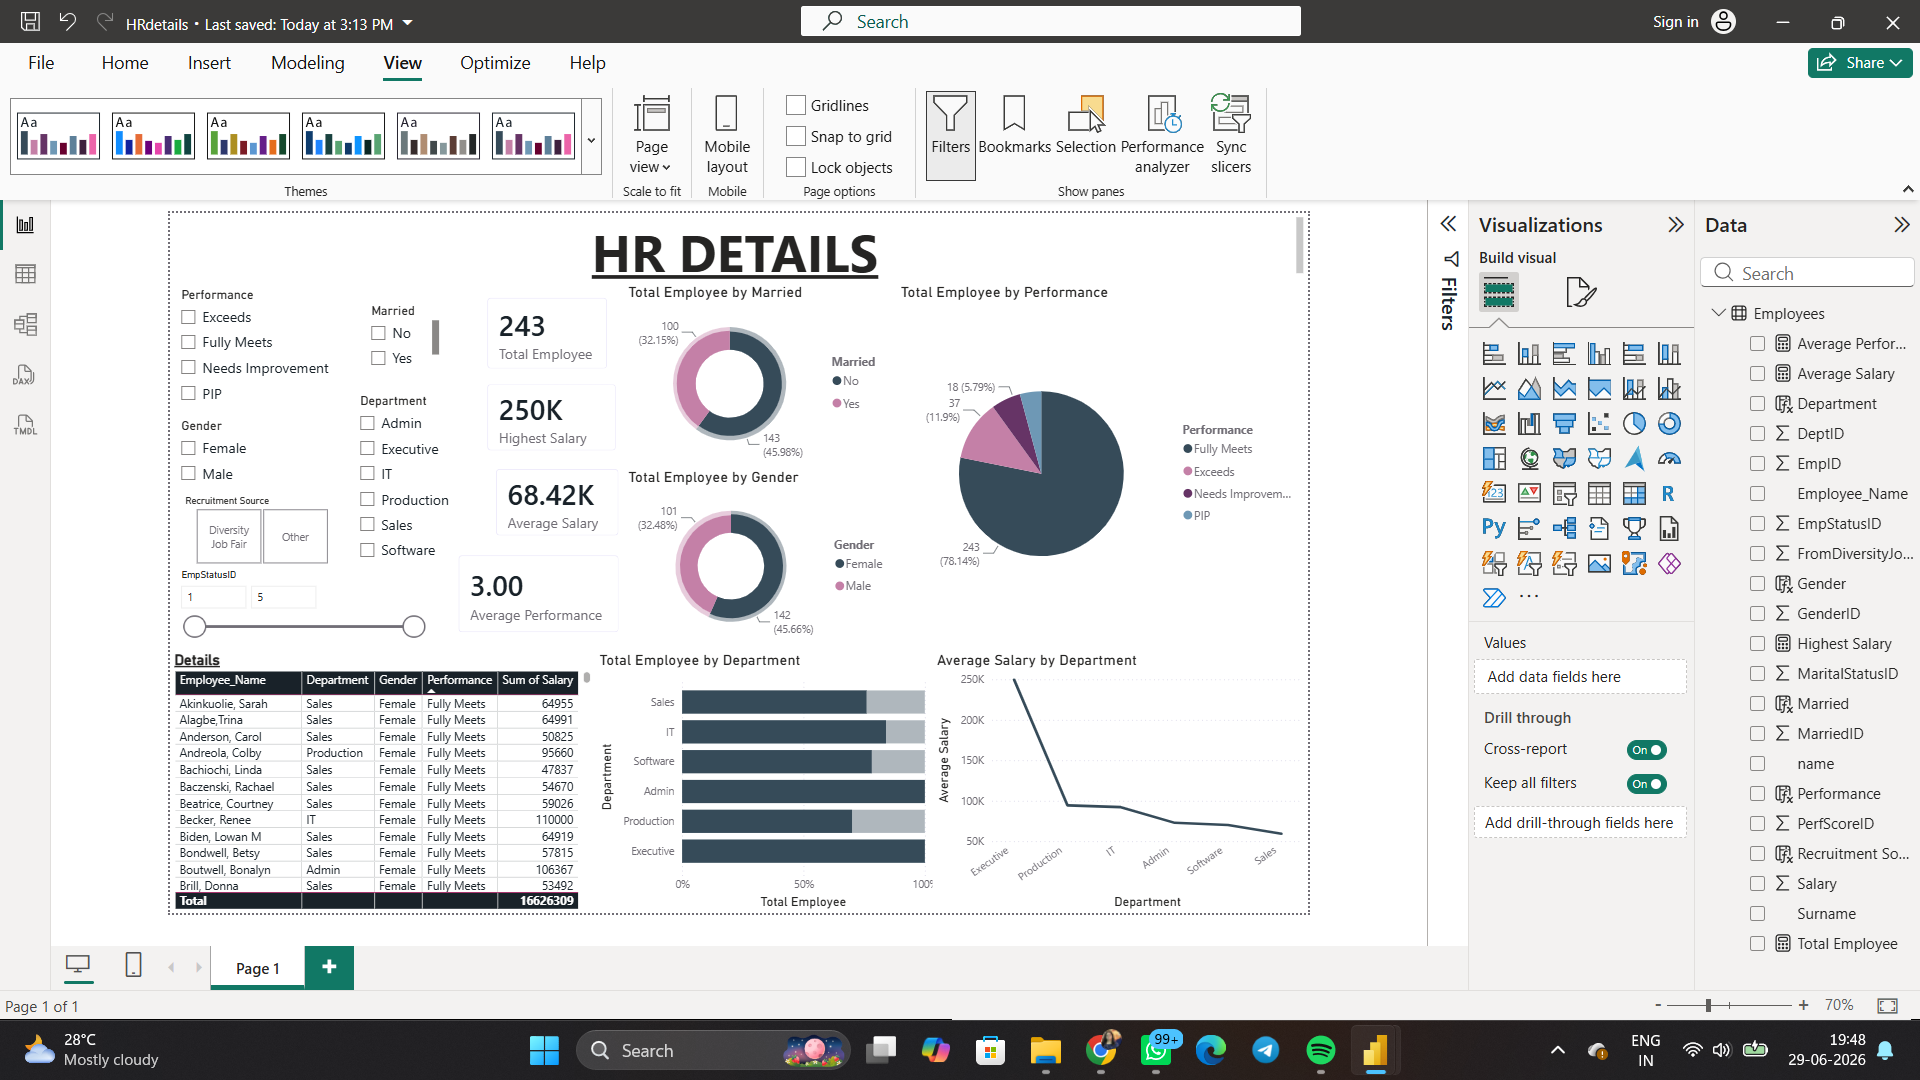

The dashboard page shown, as its layout file describes it:
{"tool":"powerbi","page":{"name":"Page 1","canvas":[1300,800],"ordinal":0},"visuals":[{"type":"cardVisual","fields":{"Data":["Employees.Average Salary"]},"box":[355.7,275.7,174.3,110],"z":1},{"type":"cardVisual","fields":{"Data":["Employees.Highest Salary"]},"box":[345.7,178.6,181.4,110],"z":2},{"type":"cardVisual","fields":{"Data":["Employees.Total Employee"]},"box":[345.7,80,171.4,115.7],"z":3},{"type":"tableEx","title":"Details","fields":{"Values":["Employees.Employee_Name","Employees.Department","Employees.Gender","Employees.Performance","Sum(Employees.Salary)"]},"box":[0,500,485.7,300],"z":4},{"type":"hundredPercentStackedBarChart","fields":{"Category":["Employees.Department"],"Y":["Employees.Total Employee"]},"box":[485.7,500,397.1,300],"z":5},{"type":"lineChart","fields":{"Category":["Employees.Department"],"Y":["Employees.Average Salary"]},"box":[871.4,500,428.6,300],"z":6},{"type":"pieChart","fields":{"Category":["Employees.Performance"],"Y":["Employees.Total Employee"]},"box":[830,80,470,417.1],"z":7},{"type":"donutChart","fields":{"Category":["Employees.Married"],"Y":["Employees.Total Employee"]},"box":[518.6,80,311.4,211.4],"z":8},{"type":"slicer","fields":{"Values":["Employees.Gender"]},"box":[0,230,147.5,92.5],"z":10},{"type":"slicer","fields":{"Values":["Employees.Department"]},"box":[204.3,201.4,141.4,205.7],"z":11},{"type":"slicer","fields":{"Values":["Employees.Performance"]},"box":[0,80,200,150],"z":12},{"type":"slicer","fields":{"Values":["Employees.Married"]},"box":[217.1,98.6,95.7,80],"z":13},{"type":"slicer","fields":{"Values":["Employees.Recruitment Source"]},"box":[4.3,317.1,200,90],"z":14},{"type":"donutChart","fields":{"Category":["Employees.Gender"],"Y":["Employees.Total Employee"]},"box":[518.6,291.4,311.4,205.7],"z":15},{"type":"cardVisual","fields":{"Data":["Employees.Average Performance"]},"box":[312.9,374.3,217.1,122.9],"z":16},{"type":"slicer","fields":{"Values":["Employees.EmpStatusID"]},"box":[0,401.4,300,95.7],"z":17},{"type":"textbox","box":[0,0,1300,80],"z":18}]}

Visuals, with their boxes on the page's 1300x800 design canvas (x1, y1, x2, y2). These are canvas units, not pixel positions in the 1920x1080 screenshot, which may show the page scaled, cropped or inside an application window:
cardVisual - Employees.Average Salary: {"x1": 356, "y1": 276, "x2": 530, "y2": 386}
cardVisual - Employees.Highest Salary: {"x1": 346, "y1": 179, "x2": 527, "y2": 289}
cardVisual - Employees.Total Employee: {"x1": 346, "y1": 80, "x2": 517, "y2": 196}
"Details" tableEx: {"x1": 0, "y1": 500, "x2": 486, "y2": 800}
hundredPercentStackedBarChart - Employees.Department x Employees.Total Employee: {"x1": 486, "y1": 500, "x2": 883, "y2": 800}
lineChart - Employees.Department x Employees.Average Salary: {"x1": 871, "y1": 500, "x2": 1300, "y2": 800}
pieChart - Employees.Performance x Employees.Total Employee: {"x1": 830, "y1": 80, "x2": 1300, "y2": 497}
donutChart - Employees.Married x Employees.Total Employee: {"x1": 519, "y1": 80, "x2": 830, "y2": 291}
slicer - Employees.Gender: {"x1": 0, "y1": 230, "x2": 148, "y2": 322}
slicer - Employees.Department: {"x1": 204, "y1": 201, "x2": 346, "y2": 407}
slicer - Employees.Performance: {"x1": 0, "y1": 80, "x2": 200, "y2": 230}
slicer - Employees.Married: {"x1": 217, "y1": 99, "x2": 313, "y2": 179}
slicer - Employees.Recruitment Source: {"x1": 4, "y1": 317, "x2": 204, "y2": 407}
donutChart - Employees.Gender x Employees.Total Employee: {"x1": 519, "y1": 291, "x2": 830, "y2": 497}
cardVisual - Employees.Average Performance: {"x1": 313, "y1": 374, "x2": 530, "y2": 497}
slicer - Employees.EmpStatusID: {"x1": 0, "y1": 401, "x2": 300, "y2": 497}
textbox: {"x1": 0, "y1": 0, "x2": 1300, "y2": 80}
